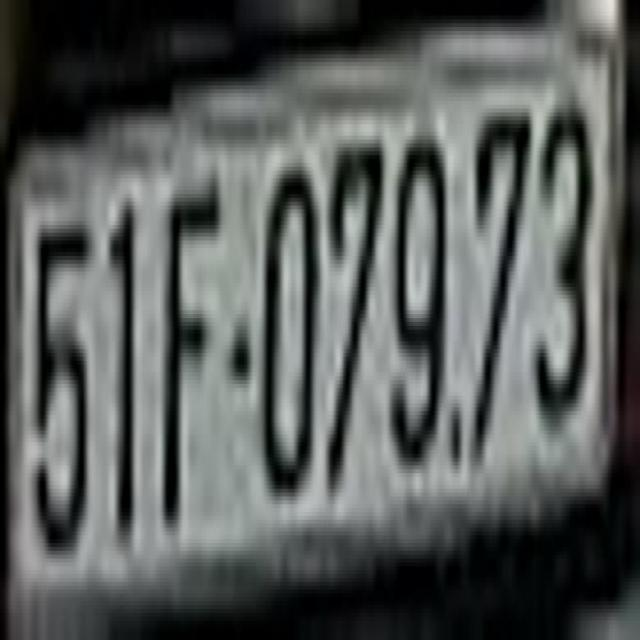0: (264, 159, 314, 504)
1: (106, 186, 144, 539)
3: (542, 109, 590, 422)
5: (34, 209, 88, 543)
7: (329, 128, 381, 496), (475, 120, 529, 454)
9: (393, 128, 445, 458)
F: (165, 194, 220, 531)
